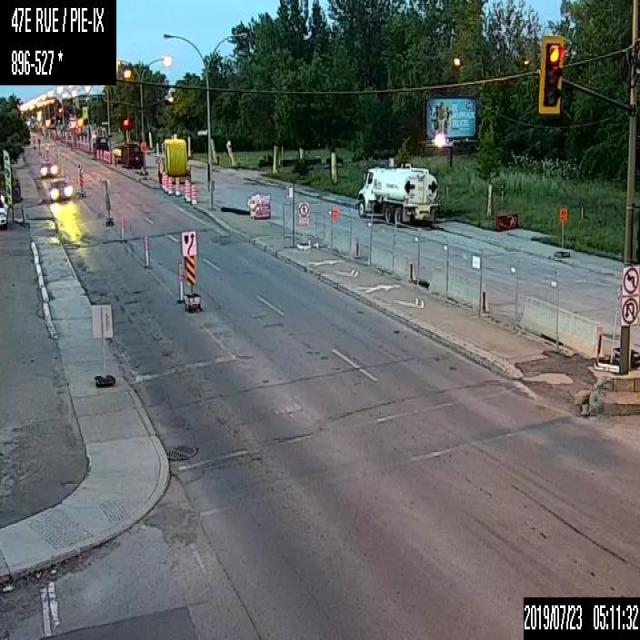construction: (554, 209, 571, 258), (177, 264, 183, 300), (144, 233, 149, 267), (331, 204, 340, 221), (162, 172, 168, 191), (166, 175, 172, 194), (174, 178, 180, 196), (120, 221, 124, 243), (186, 181, 190, 200), (192, 185, 196, 204)
vehicle: (356, 154, 439, 227), (48, 177, 74, 203), (39, 158, 57, 177), (0, 192, 7, 228)
